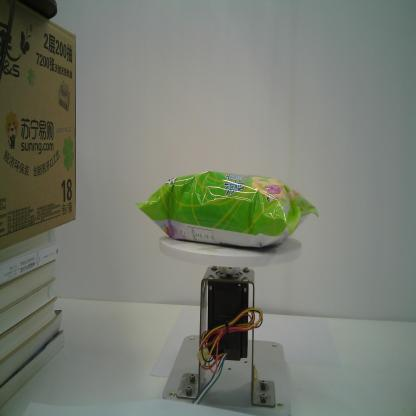Puffed Food: (134, 169, 320, 248)
